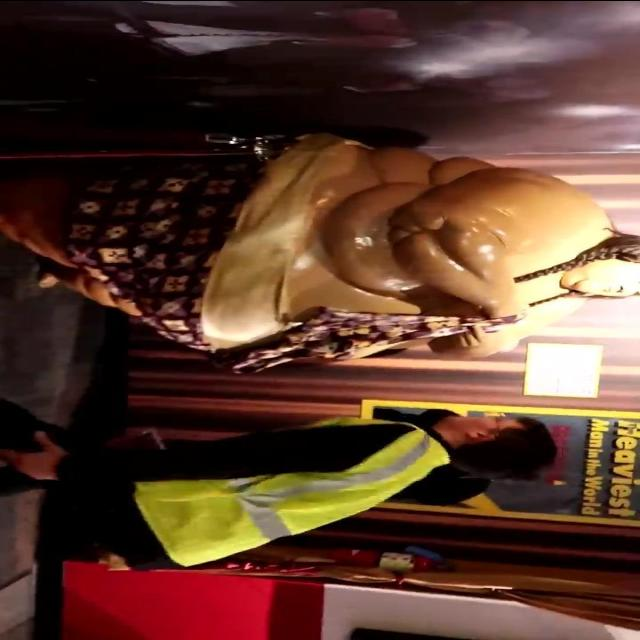jacket: (126, 416, 437, 572)
